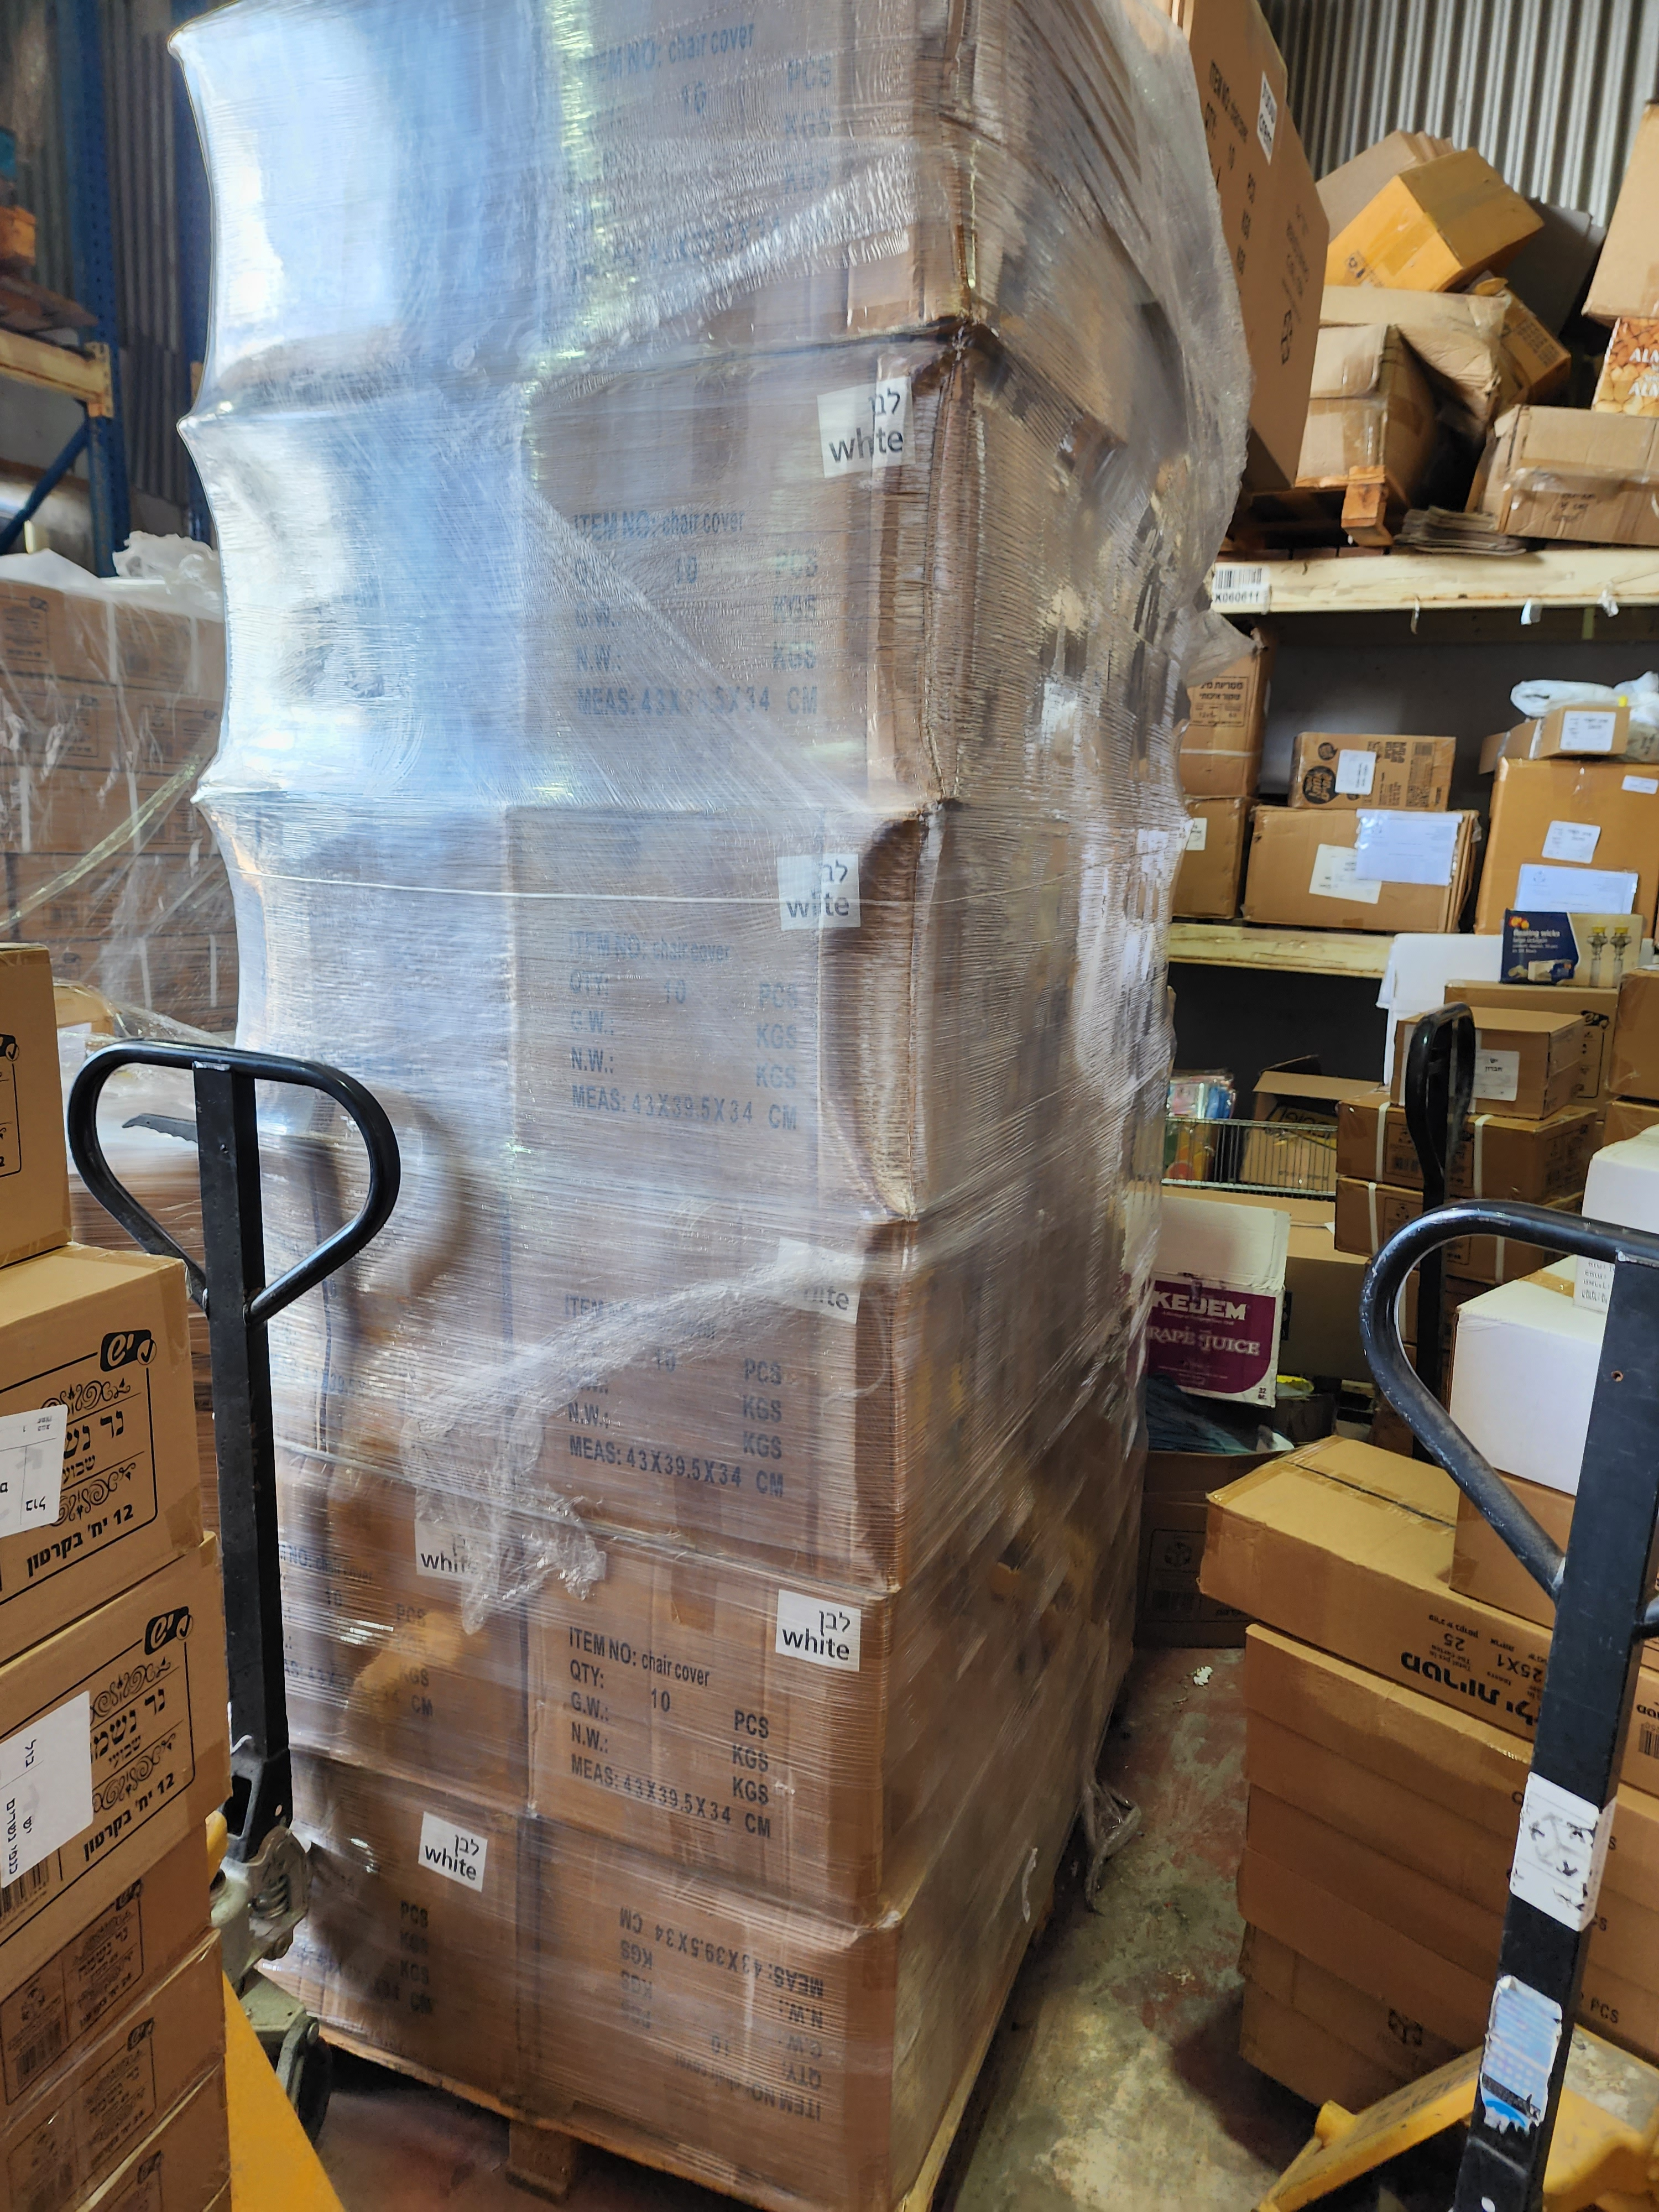box: (509, 308, 1159, 799), (516, 1461, 1112, 1958), (512, 749, 1134, 1207), (509, 1136, 1136, 1541), (525, 1804, 1091, 2209), (167, 334, 584, 859), (254, 1414, 573, 1860), (265, 1733, 613, 2134), (1222, 1639, 1488, 2085), (1237, 784, 1492, 949)
